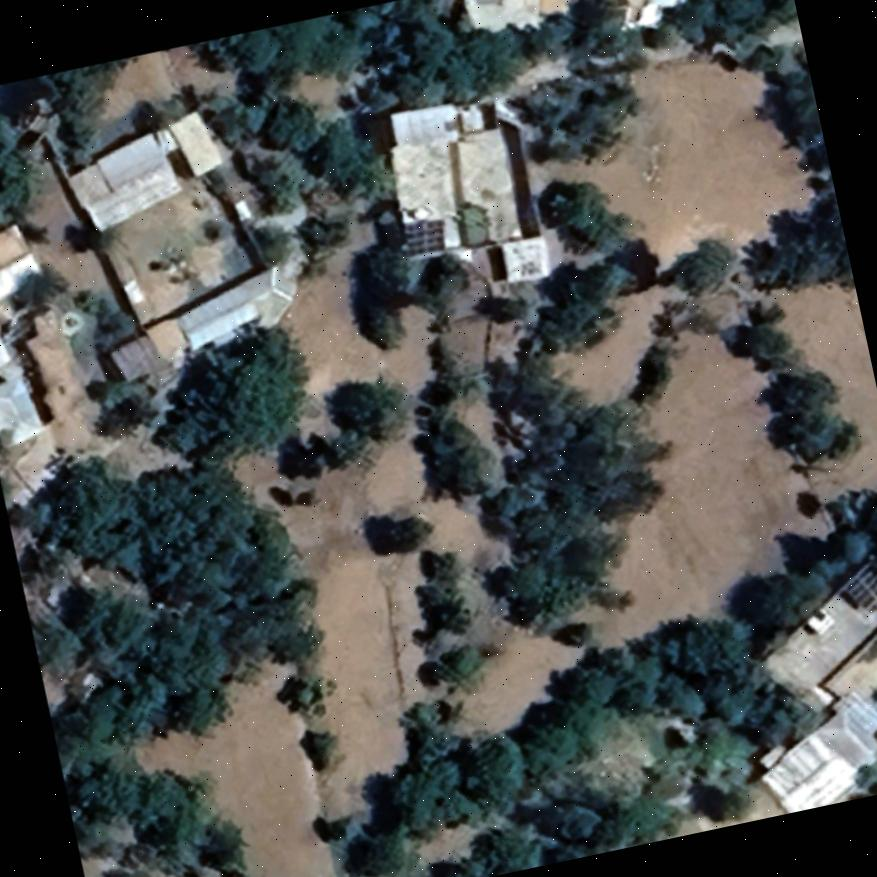Solarpanel: (400, 213, 446, 255), (839, 562, 877, 610)
